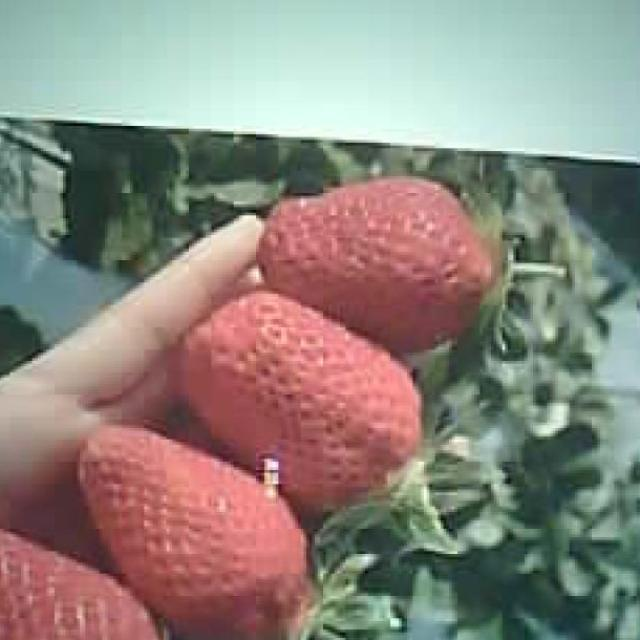Healthy Fruit: (179, 296, 423, 496), (83, 429, 308, 624), (255, 174, 496, 348)
